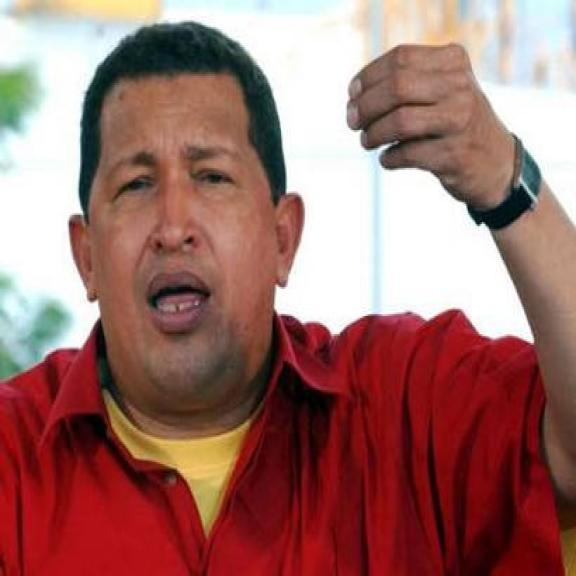face: (68, 58, 306, 411)
